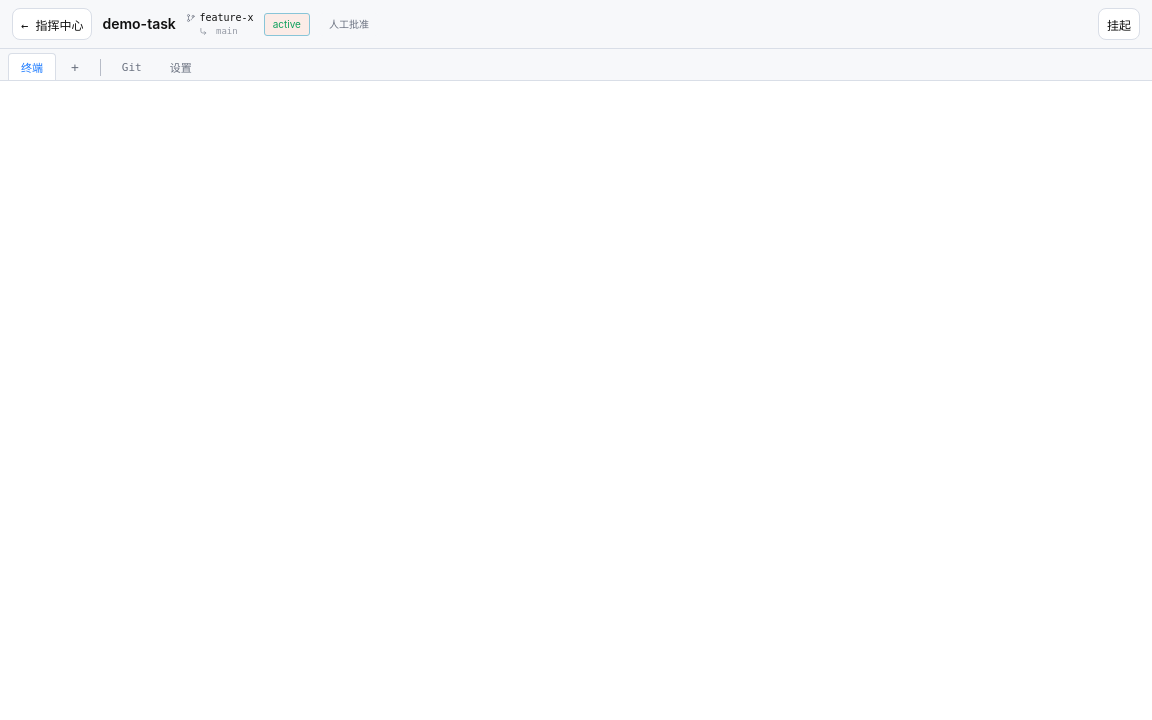
Test case: 分支名点击复制（tasks 3.3 / design D3） › 复制来源分支：写入显示短名，toast「已复制 main」
The image size is (1152, 720).
Step 1. Click the button with class "branch-copy" showing "main" → (227, 31), box [211,25,243,37]
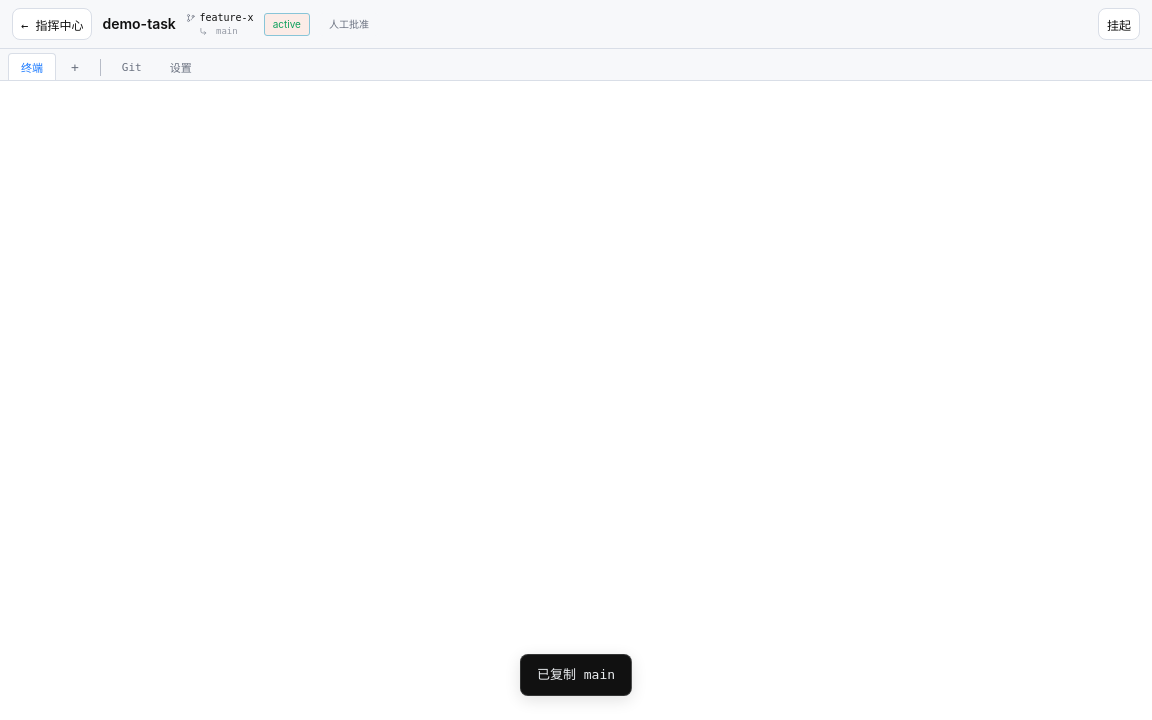
Expected: the message with class "od-toast" reads "已复制 main", [537,667,615,682]
